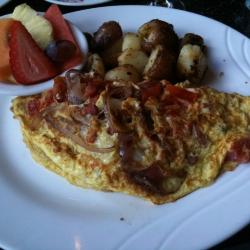fries: (78, 19, 212, 88)
omelette: (20, 74, 249, 198)
